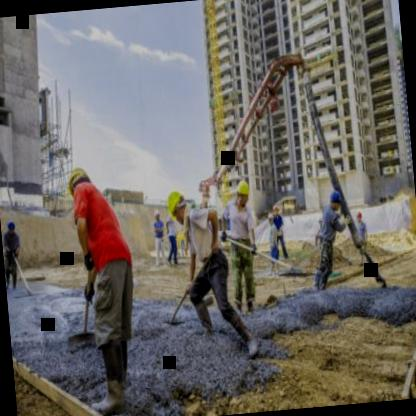helmet: (162, 185, 190, 228), (65, 165, 92, 207), (233, 178, 254, 207), (328, 185, 343, 215)
